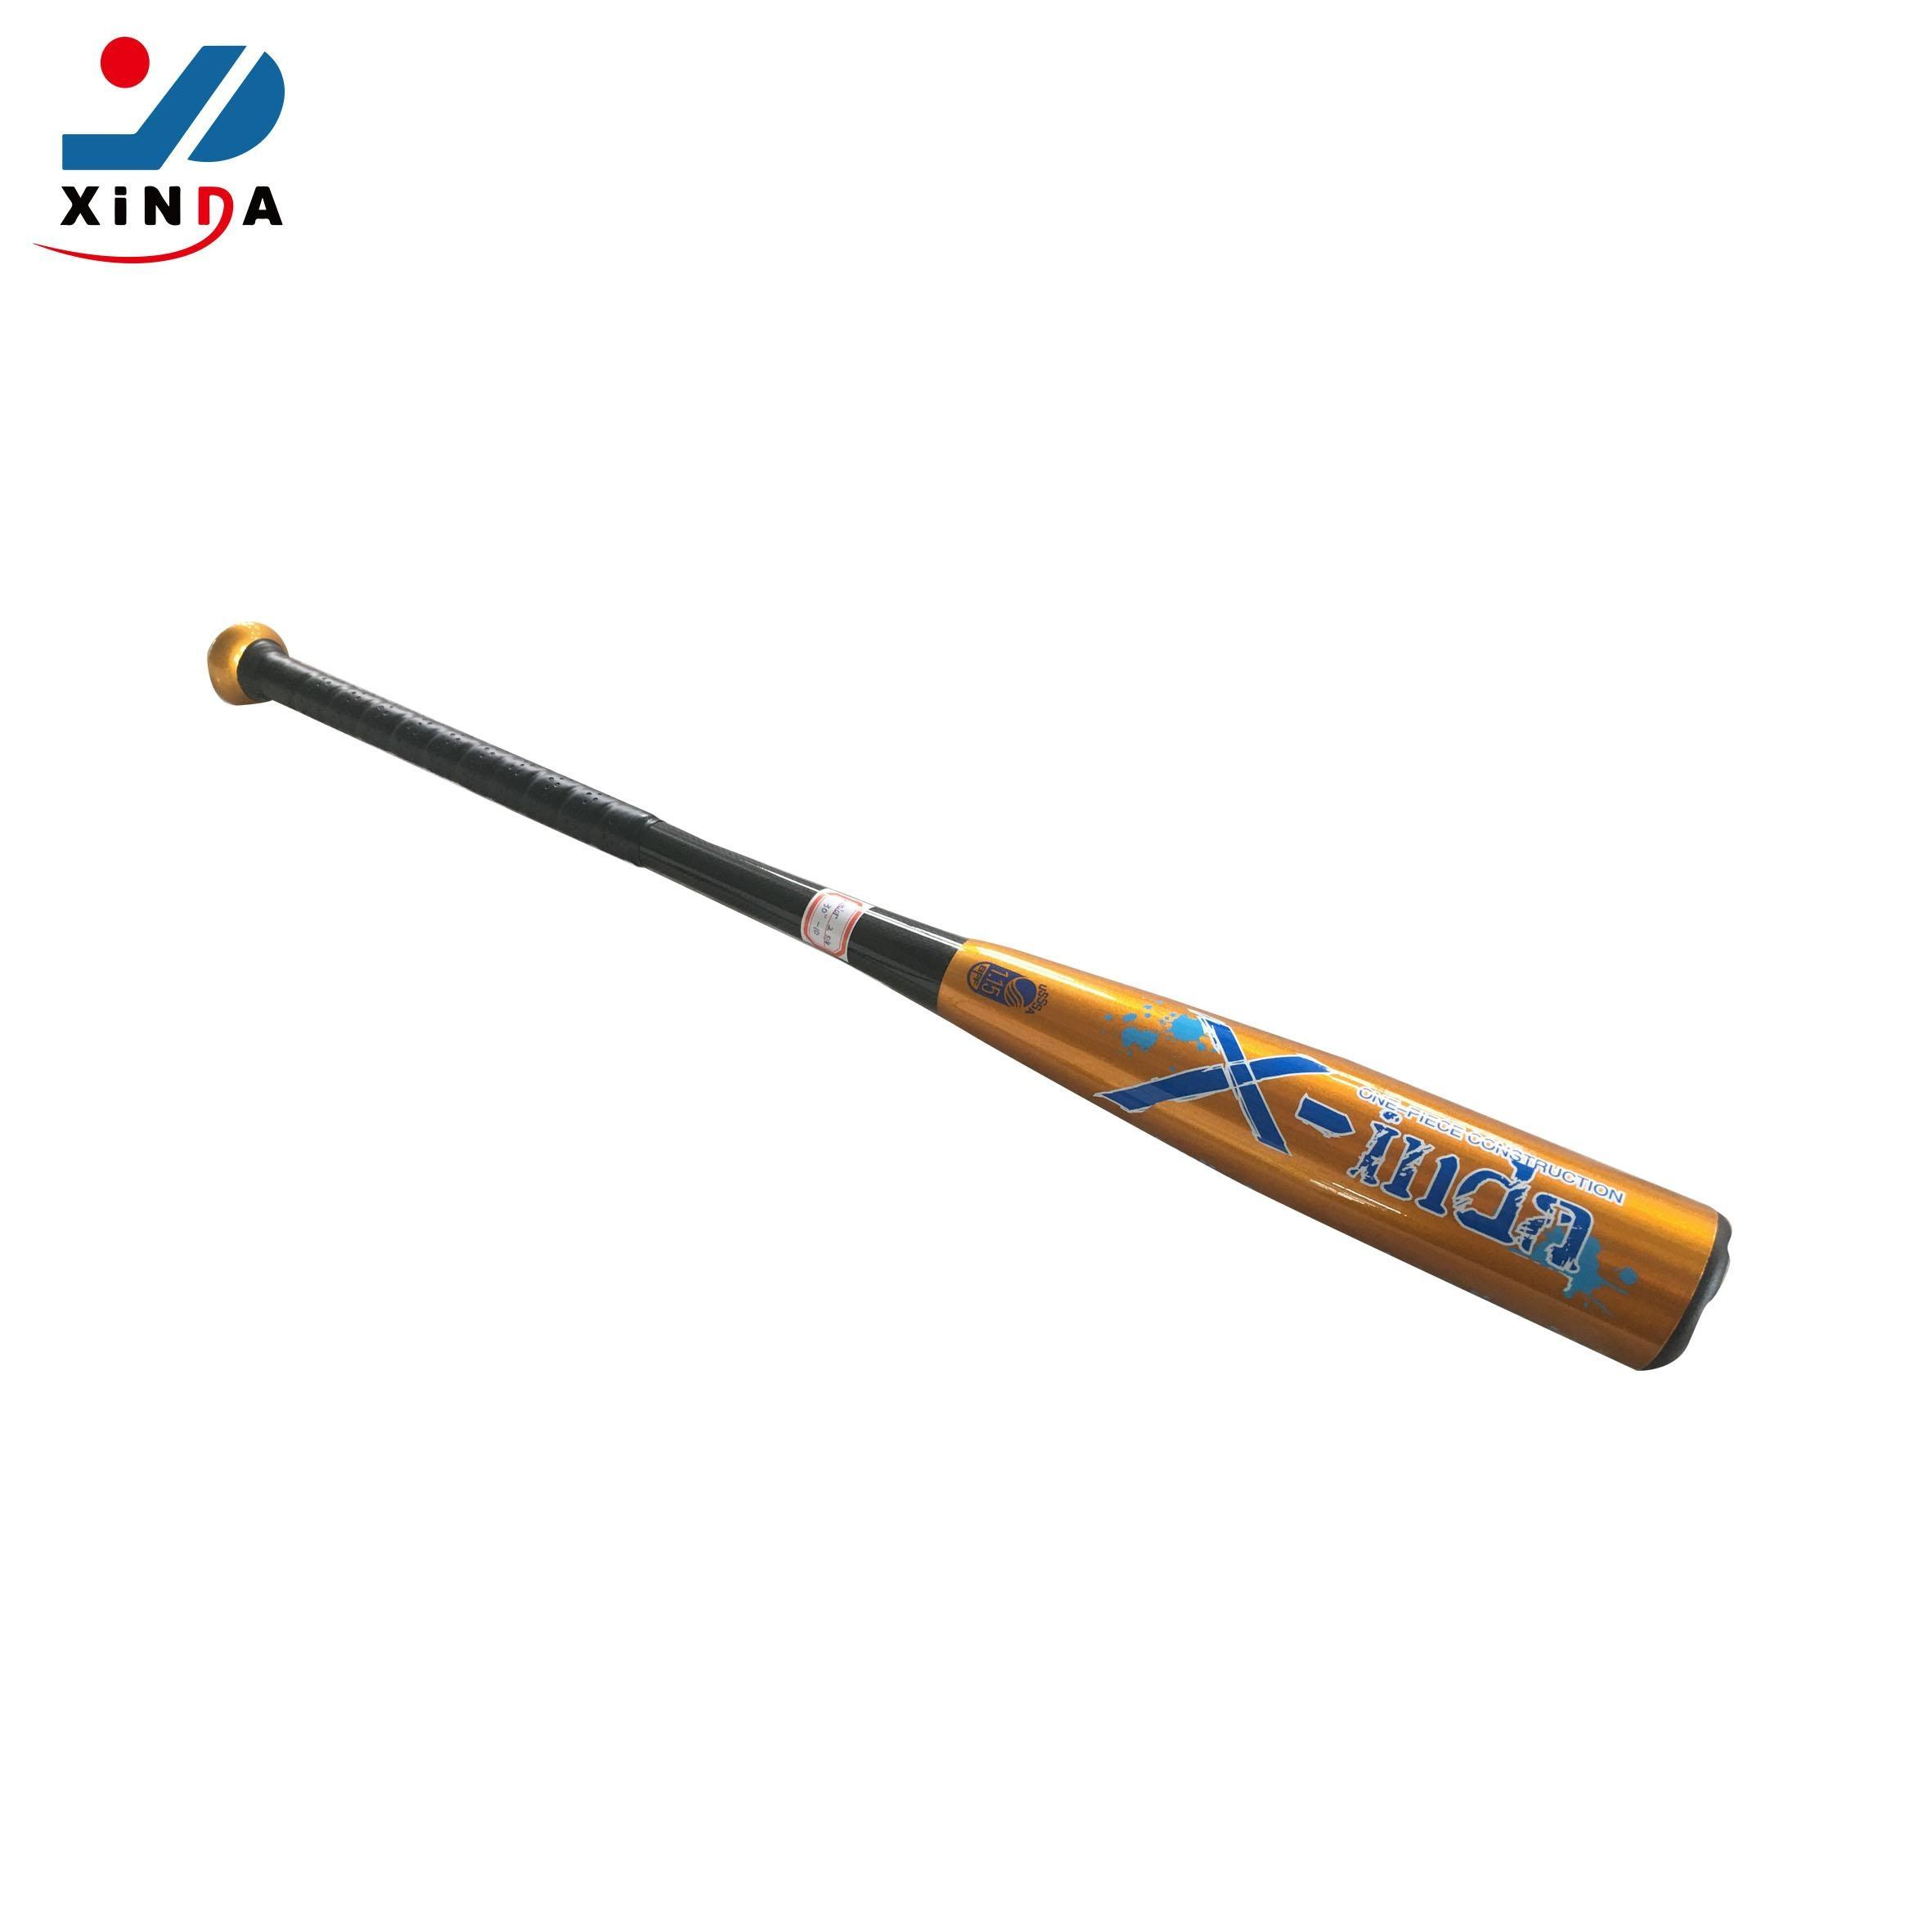Baseball-Bat: (110, 471, 1783, 1456)
